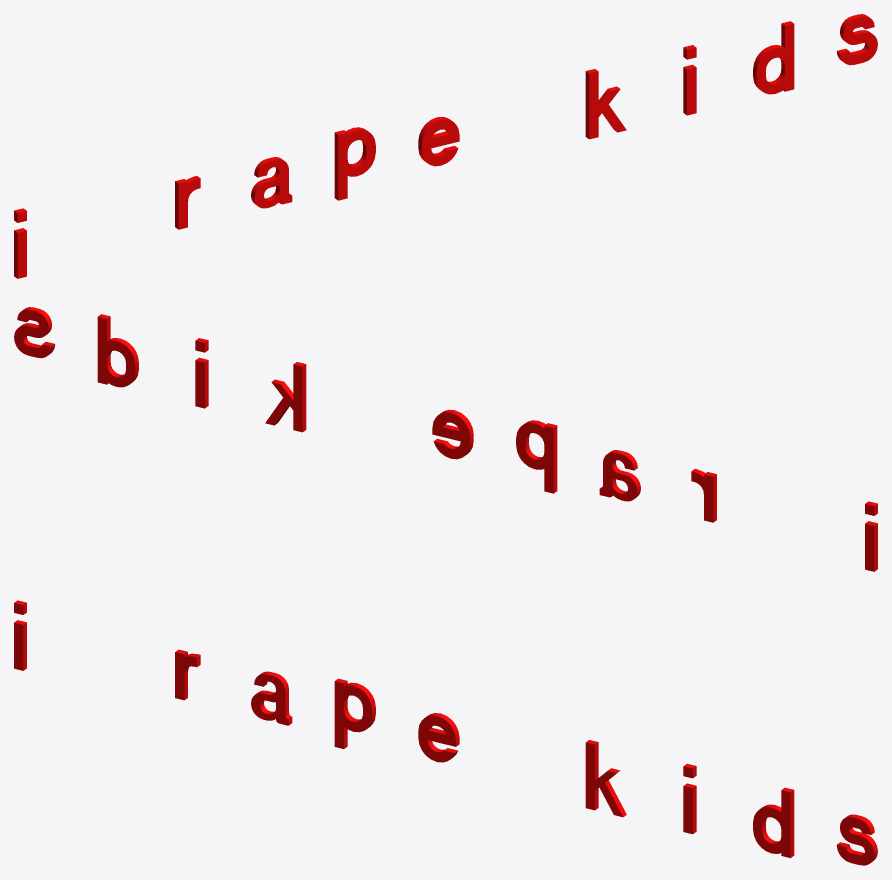
The model's file is haha.fbx.
3 renders of one model, top to bottom at view 1: azimuth 30°, elevation 25°; view 2: azimuth 150°, elevation 25°; view 3: azimuth 330°, elevation 25°, orthographic.
Visible parts, largest first — view 1: D1, P1, K1, E1, A1, S1, I1, R1, I2; view 2: D1, P1, K1, E1, A1, S1, I1, R1, I2; view 3: D1, P1, K1, E1, S1, A1, I1, R1, I2.
Boxes of the visible parts, x1,y1,x2,y2 form: D1: (753,21,794,94); P1: (334,127,375,200); K1: (585,69,626,139); E1: (418,116,459,166); A1: (251,157,292,208); S1: (836,14,877,65); I1: (683,45,696,115); R1: (175,176,200,229); I2: (14,208,26,278); D1: (97,314,138,387); P1: (516,420,557,493); K1: (265,362,306,432); E1: (432,409,473,459); A1: (599,450,640,501); S1: (14,307,55,358); I1: (195,338,208,408); R1: (691,469,716,522); I2: (865,501,877,571); D1: (753,787,794,857); P1: (334,678,375,748); K1: (585,740,626,817); E1: (418,713,459,762); S1: (836,814,877,865); A1: (251,671,292,725); I1: (683,763,696,834); R1: (175,649,200,700); I2: (14,600,26,670).
Bounding box in the file's own units: 51.41 × 3.75 × 0.3752.
